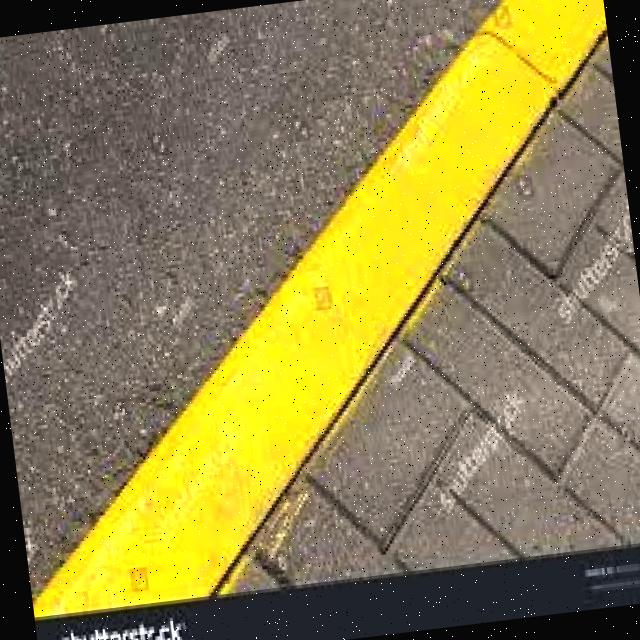curb: (37, 1, 608, 606)
